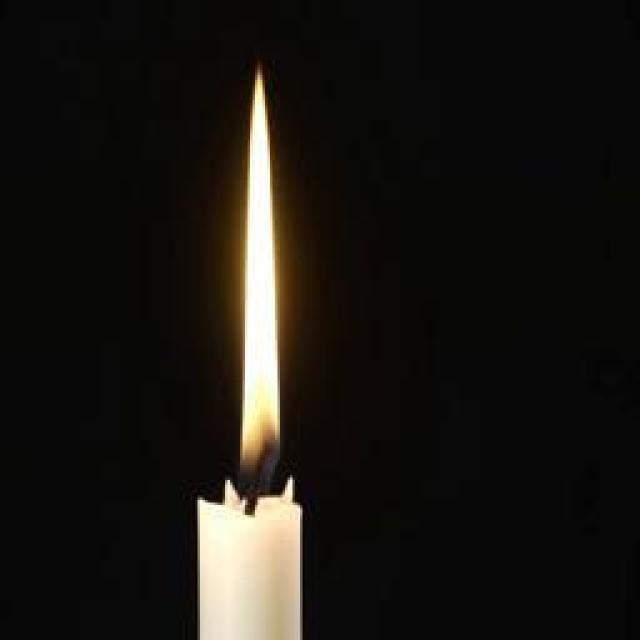Fire: (238, 78, 286, 462)
